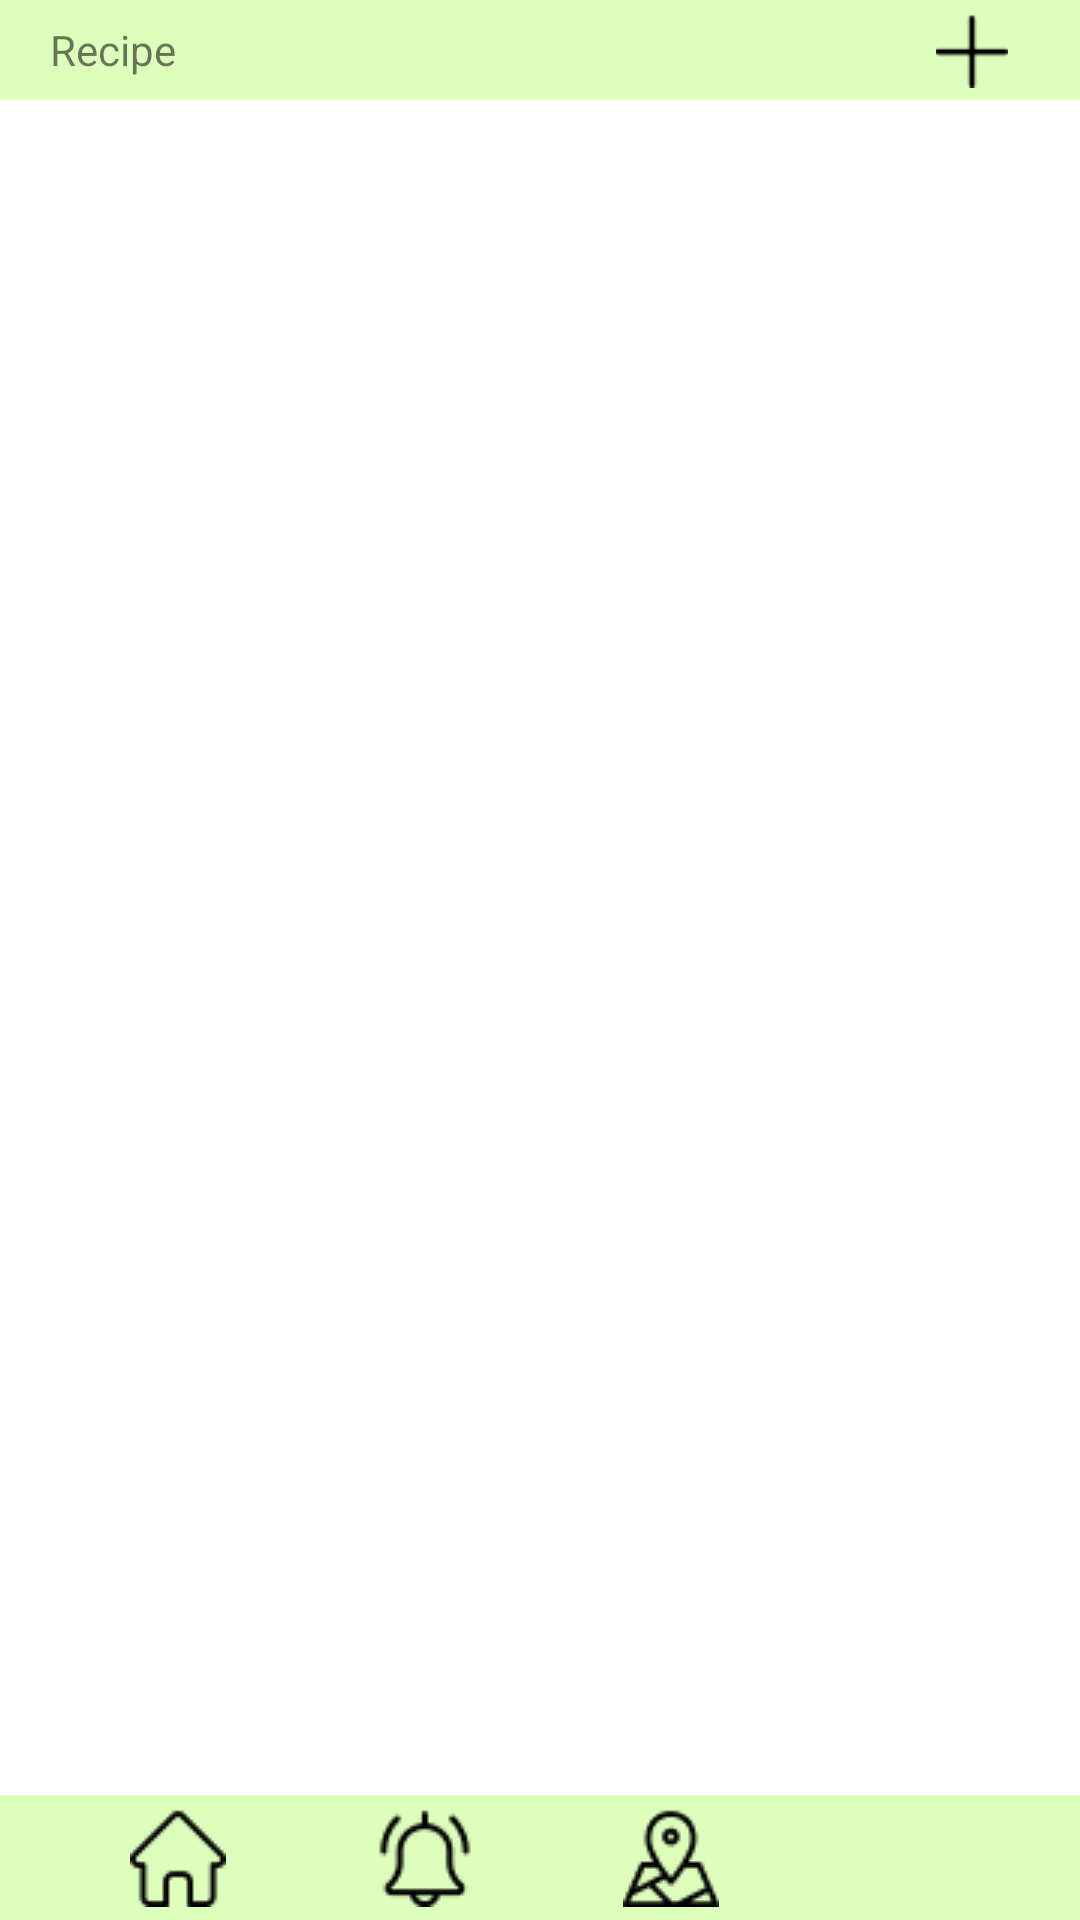

Screen size 1080px x 1920px. Icon name, then its center in pixels as [x,y]:
home: [178,1858]
maps: [671,1858]
reminder: [425,1858]
